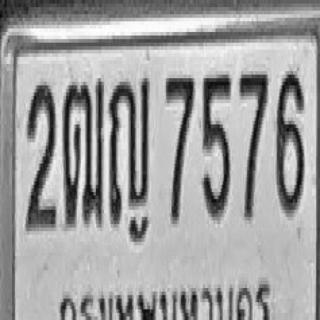A13: (109, 76, 149, 222)
A18: (62, 76, 104, 226)
N02: (26, 80, 55, 229)
N05: (202, 71, 230, 220)
N06: (275, 68, 304, 213)
N07: (238, 69, 268, 219), (165, 75, 194, 224)
